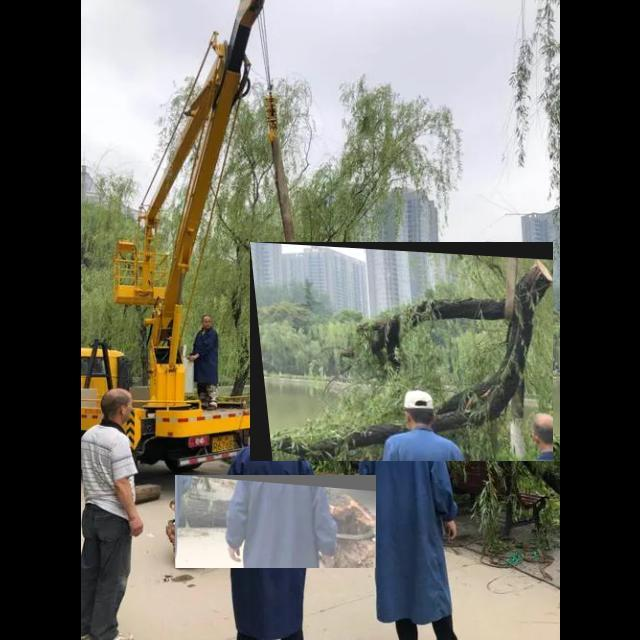fallen_tree: (250, 242, 554, 462), (175, 475, 377, 569)
